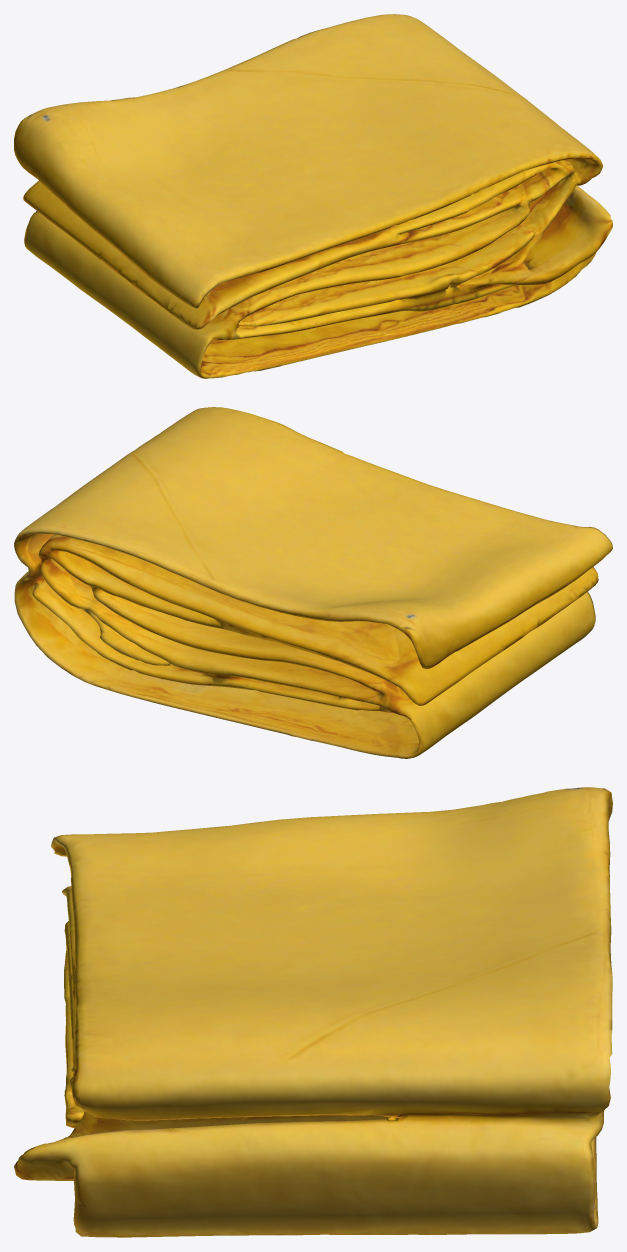
The model's file is single_fold_laundry_y_1108181737_refine.fbx.
The picture shows the model from 3 angles, top to bottom: view 1: azimuth 30°, elevation 25°; view 2: azimuth 150°, elevation 25°; view 3: azimuth 270°, elevation 25°; orthographic projection. The views are drawn at different scales.
Visible parts, largest first — view 1: Mesh_0; view 2: Mesh_0; view 3: Mesh_0.
Part boxes in pixels (x1=…): Mesh_0: x1=14, y1=14, x2=612, y2=378; Mesh_0: x1=14, y1=407, x2=612, y2=758; Mesh_0: x1=14, y1=787, x2=612, y2=1237.
Size of the model in its own units: 200 by 71.98 by 166.
Materials: 1 (1 with a texture image).
